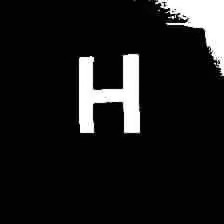LTR_H: (65, 49, 149, 140)
